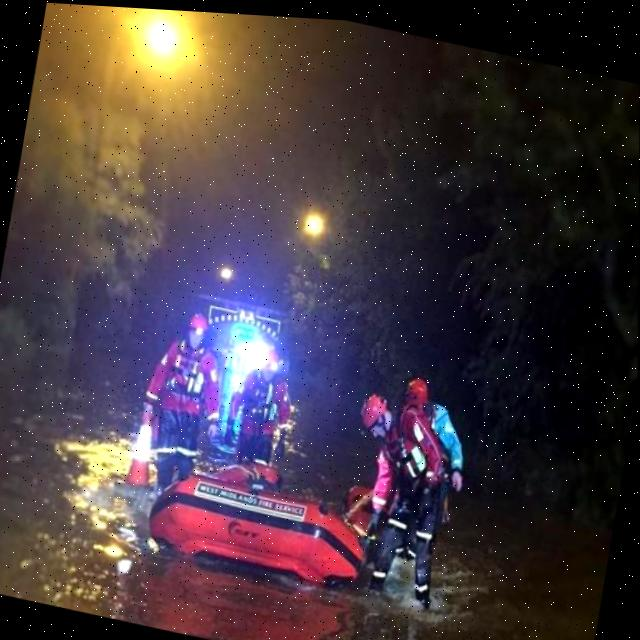rescuer: (315, 375, 480, 623), (126, 288, 233, 509), (382, 363, 489, 516), (220, 336, 305, 489)
